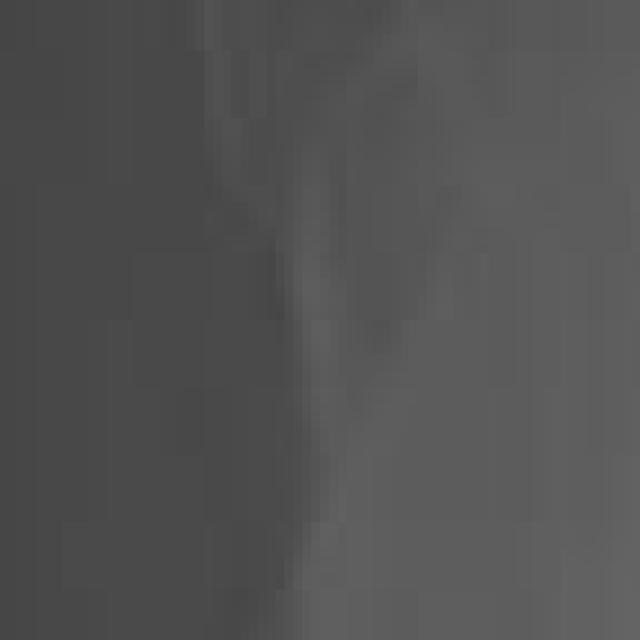fracture: (0, 4, 639, 640)
